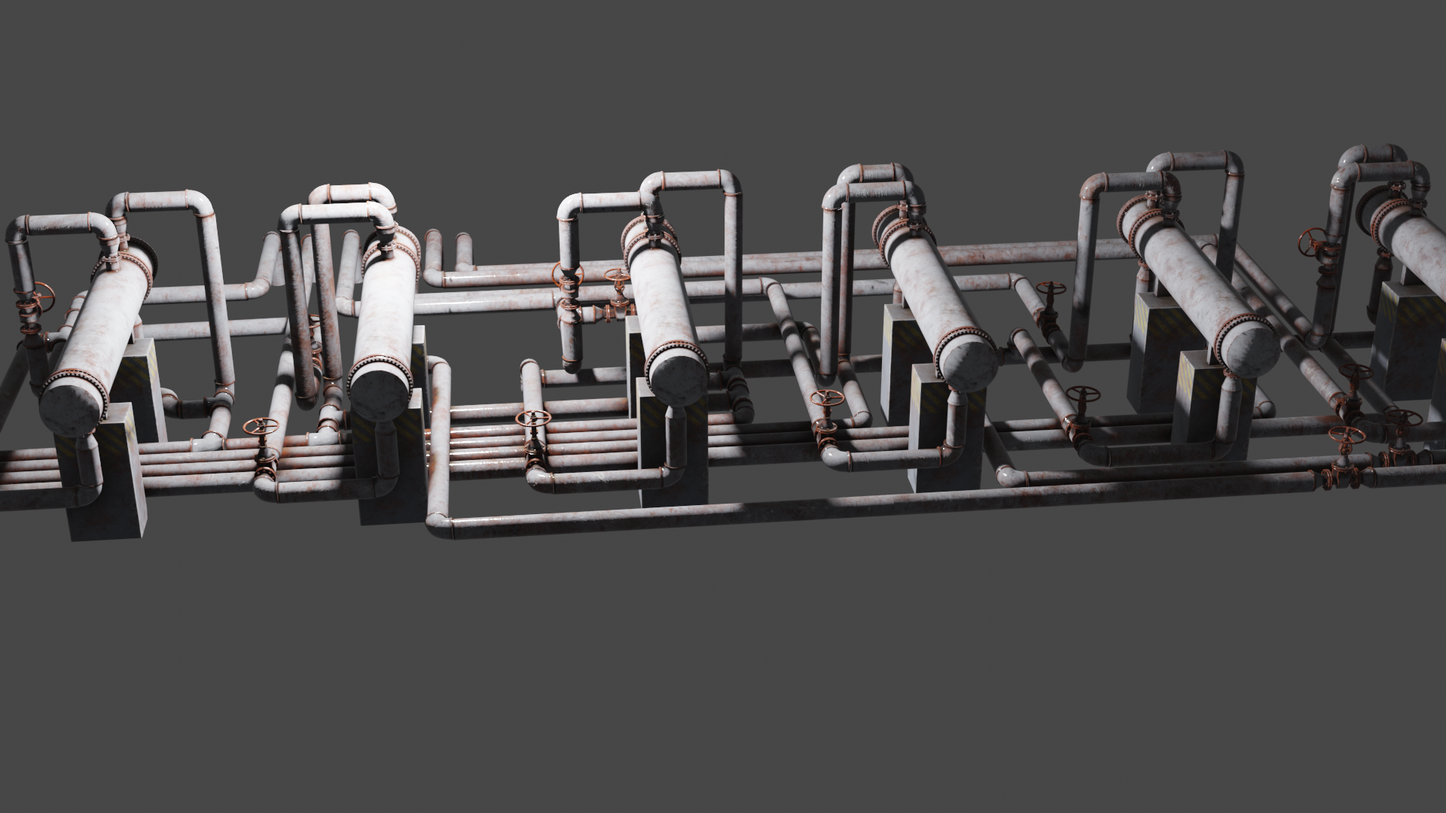HE_1: (1359, 181, 1446, 308)
HE_2: (1115, 196, 1280, 380)
HE_3: (868, 208, 1005, 391)
HE_4: (619, 213, 709, 410)
HE_5: (344, 220, 424, 424)
HE_6: (35, 238, 157, 444)
